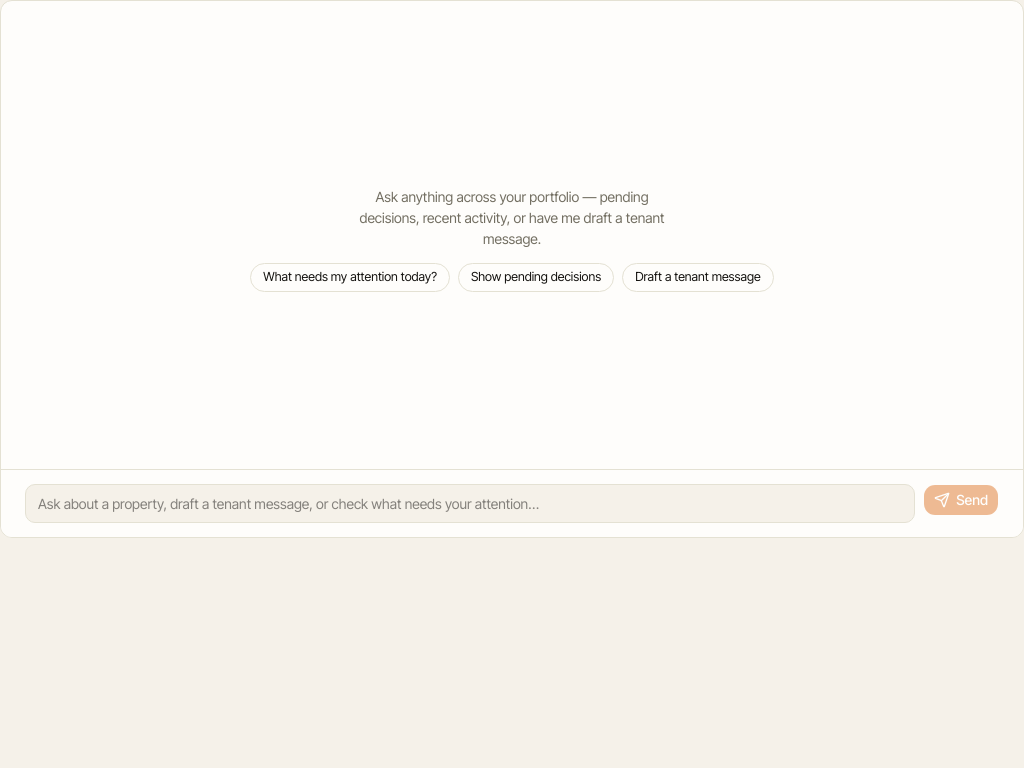
Test case: ChatPanel — realtime dedupe › does not double-render an assistant_text turn that already streamed via SSE
Step 1. Replace the text in the text box with test id "chat-panel-input" with "rent status?" → x=470, y=503, box [25,484,915,523]
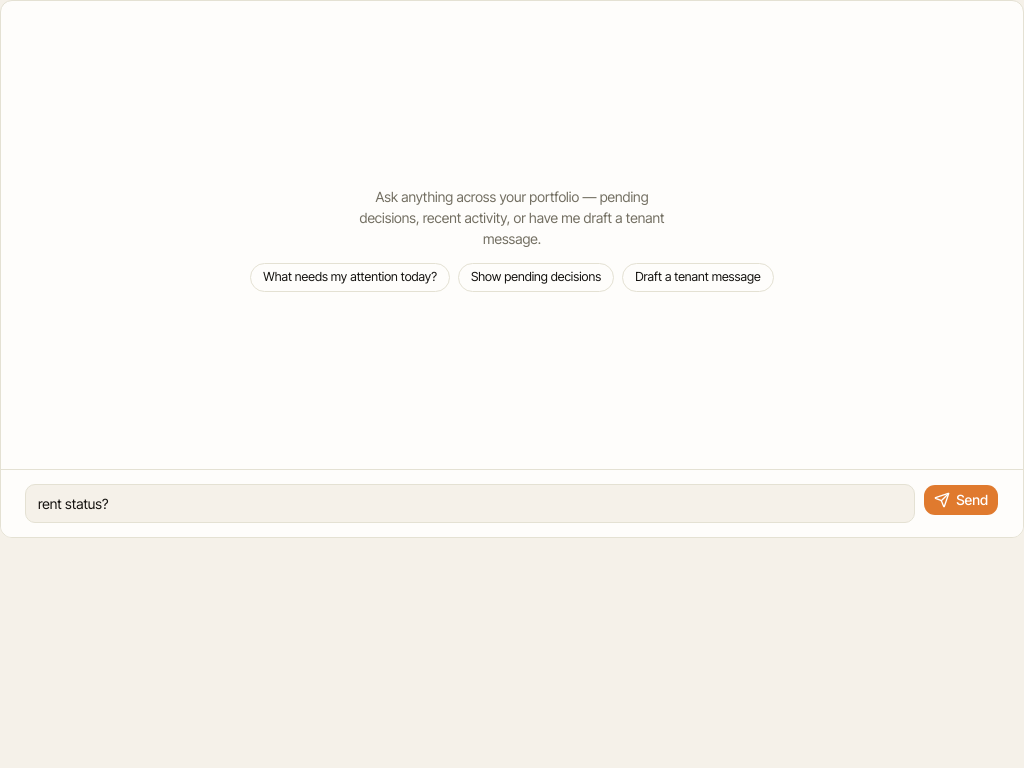
Step 2. Submit the form with test id "chat-panel-form", box [1,469,1023,537]
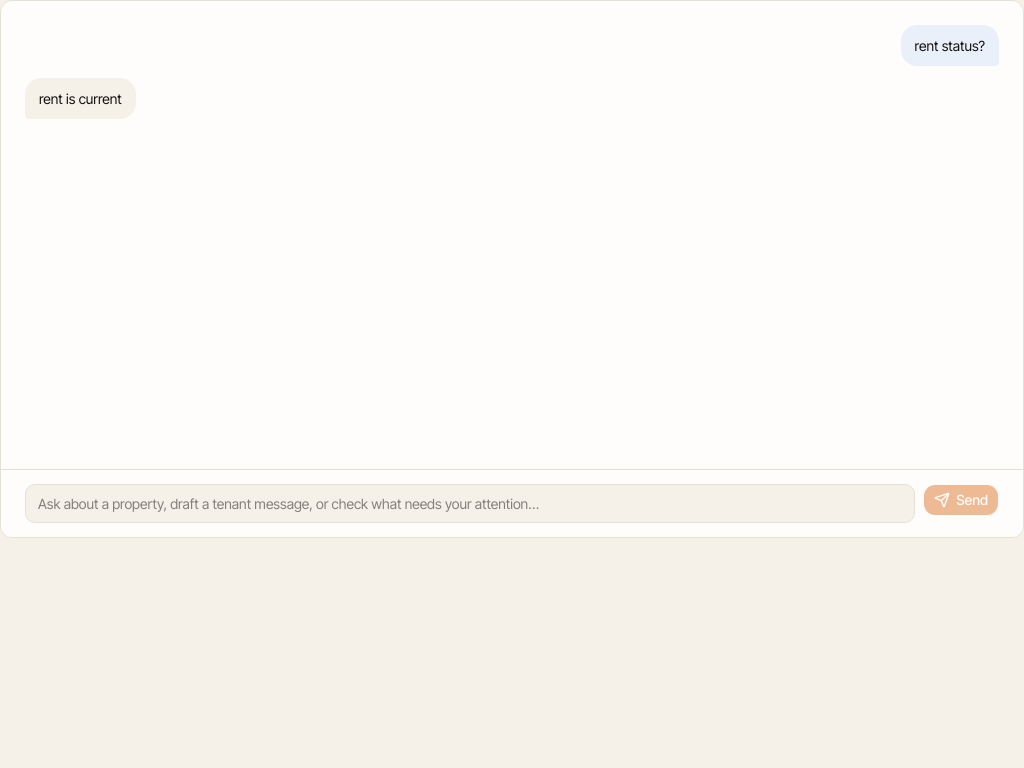
Result: the number of elements with test id "chat-message-assistant" is 1 at [25,78,136,119]
